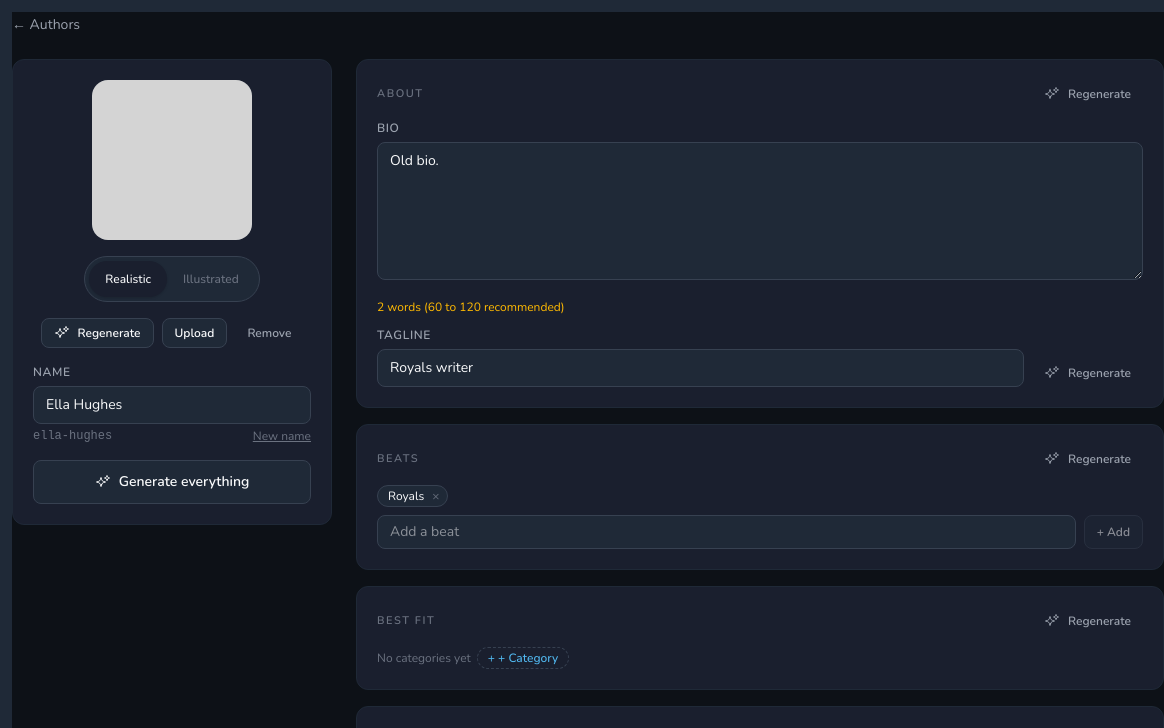
Test: AuthorProfileEditor › a new name on an author with a generated portrait suggests a matching portrait
This screenshot has width=1164, height=728.
Click the button with aria-label "Regenerate name": (282, 436) x1=253 y1=428 x2=311 y2=444
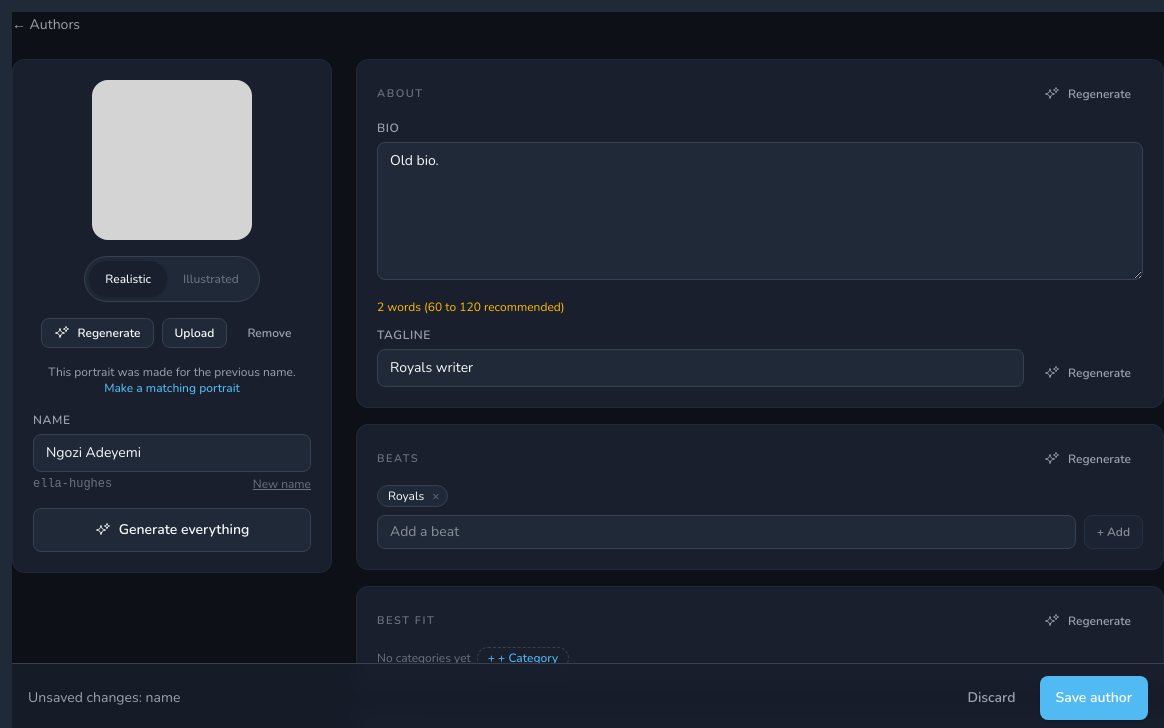
Expected: the field showing "Ngozi Adeyemi" is shown, x1=33 y1=434 x2=311 y2=472
Click the button "Make a matching portrait": (172, 388) x1=104 y1=380 x2=240 y2=396
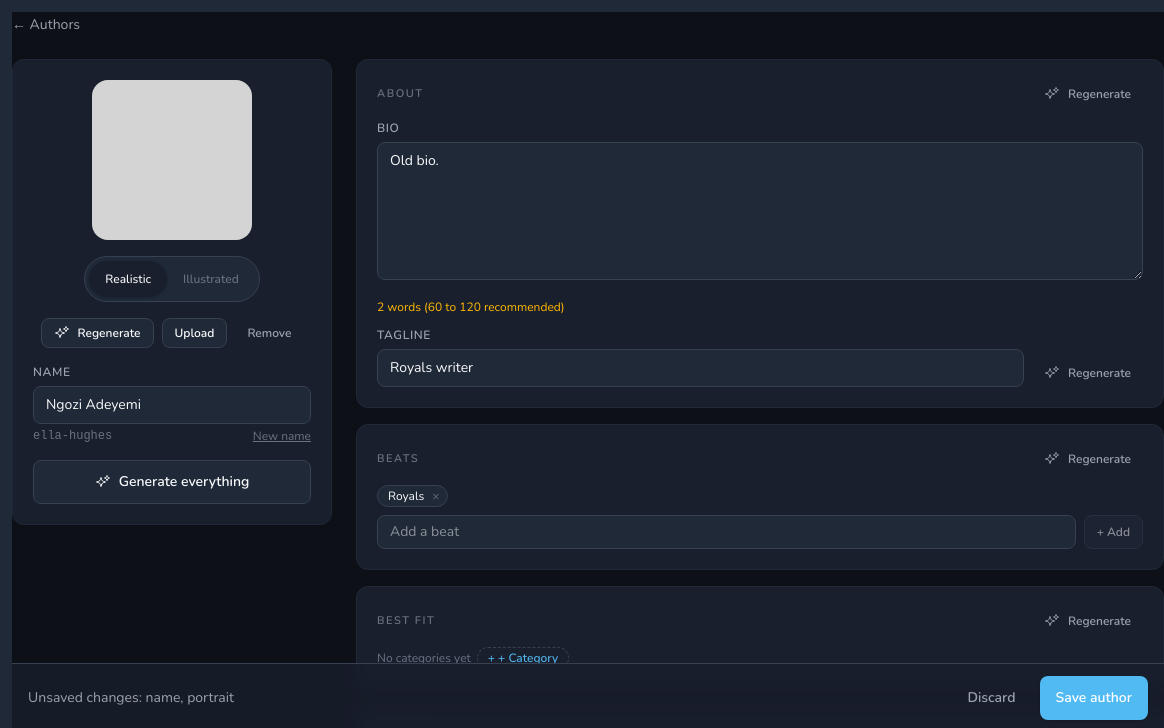
Expected: the text "portrait was made for the previous name" is gone
